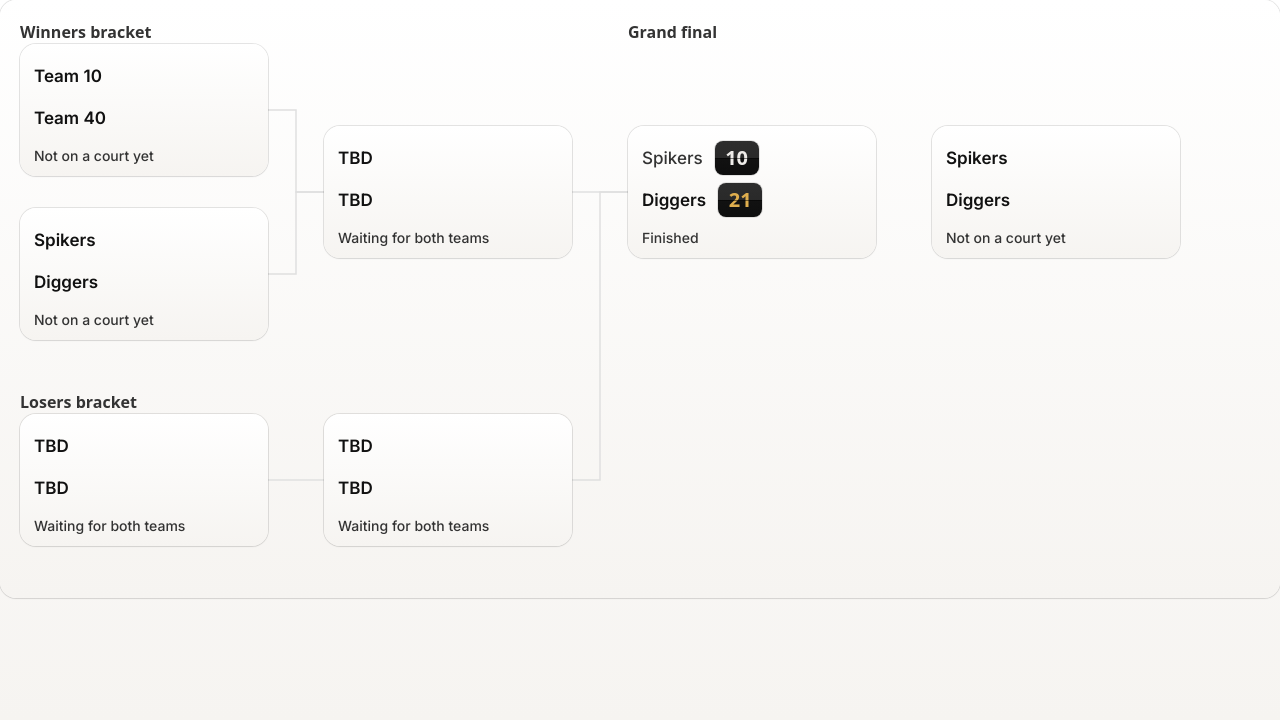
a correction that removes the reset match takes it off the bracket right away
Click the button with aria-label "Grand final: Spikers vs Diggers" at (752, 179), box [632,130,872,228]
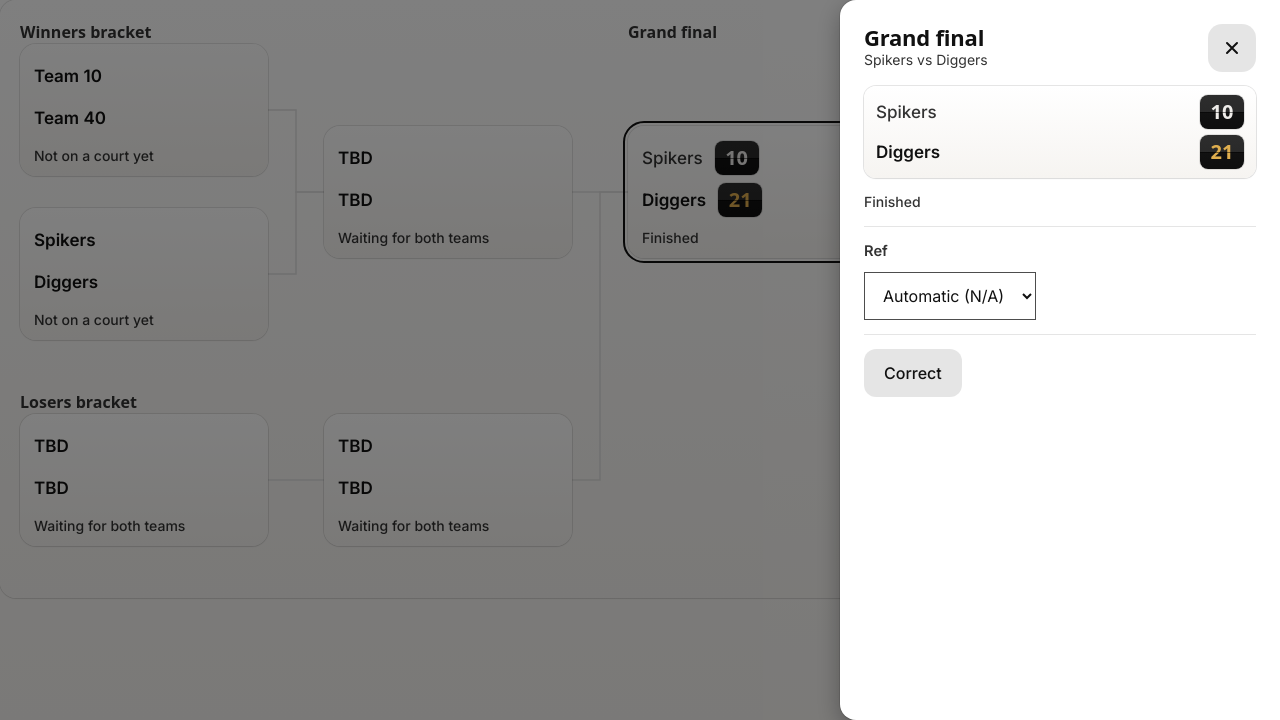
Click the button with aria-label "Correct Spikers vs Diggers" at (913, 373), box [864,349,962,397]
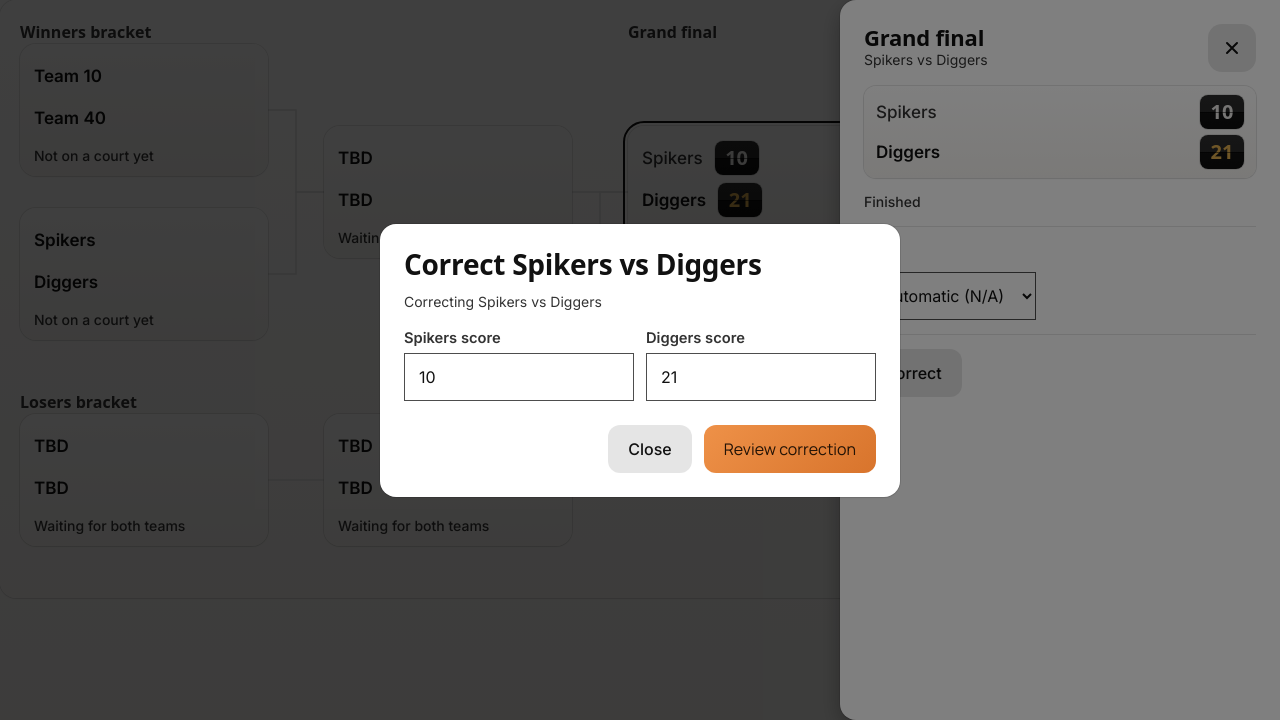
Replace the text in the number field labelled "Spikers score" with "21" at (519, 376), box [404,352,634,400]
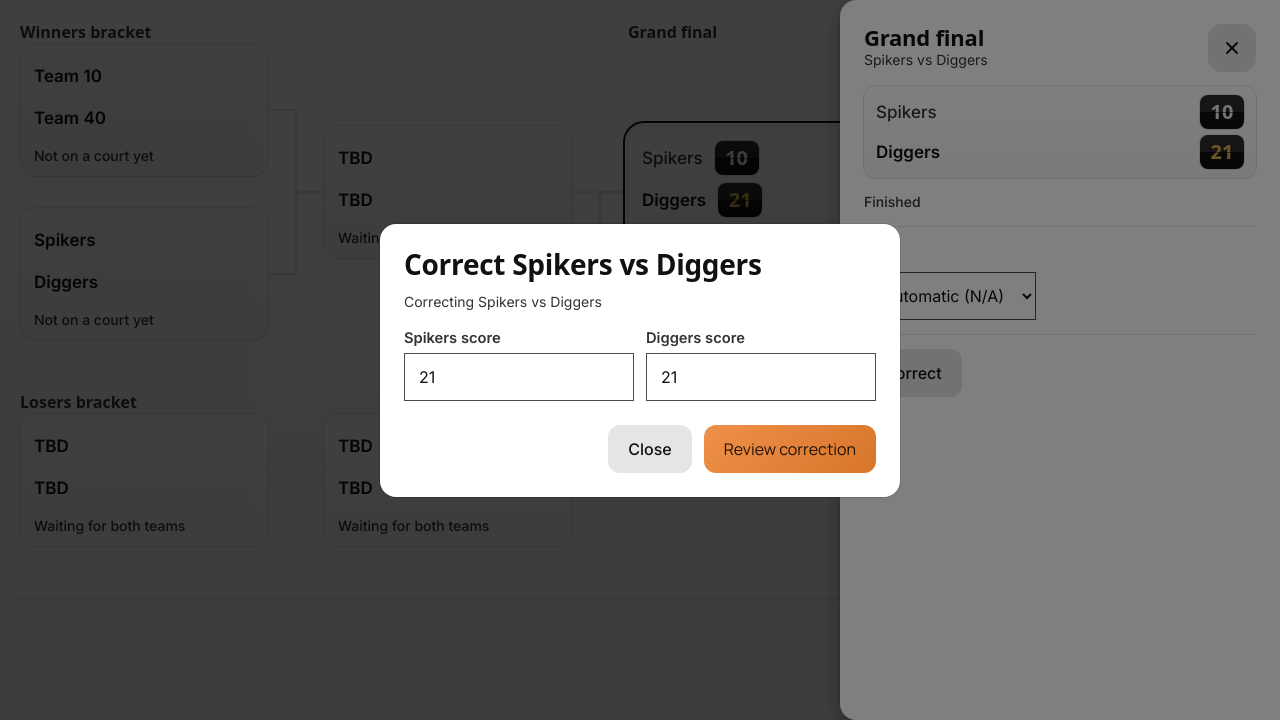
Replace the text in the number field labelled "Diggers score" with "10" at (761, 376), box [646,352,876,400]
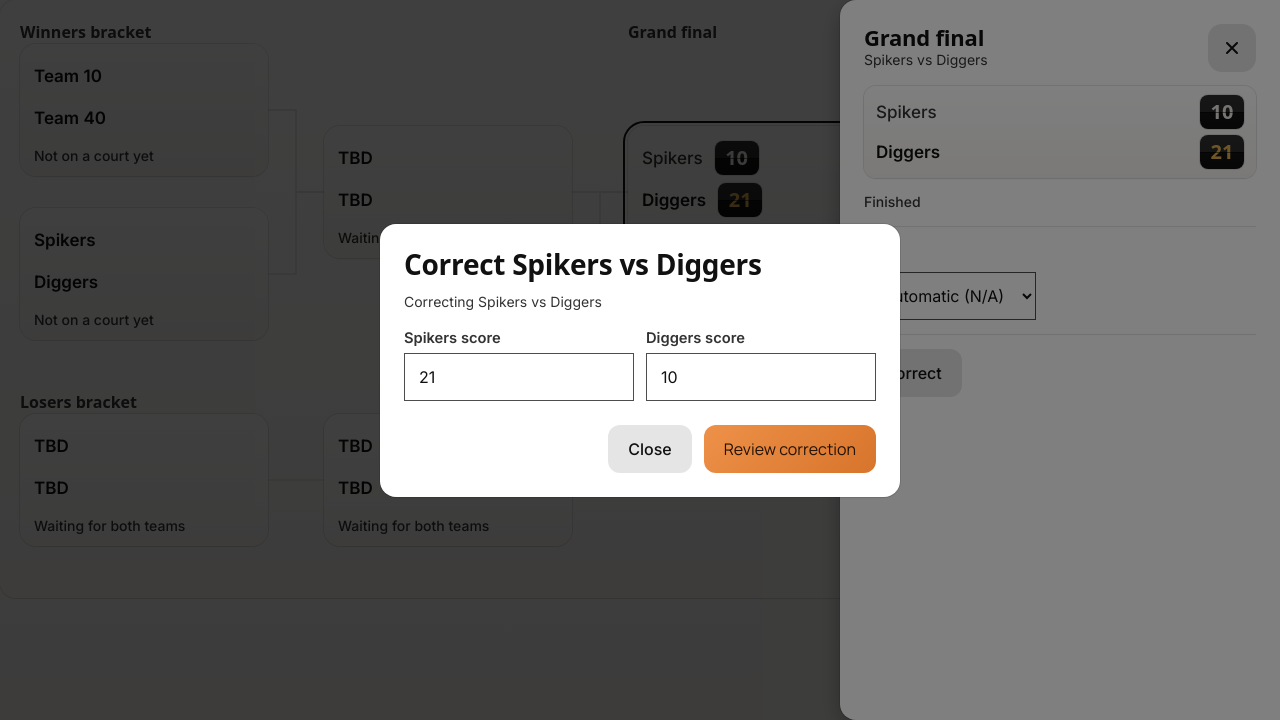
Click the button "Review correction" at (790, 448), box [704,424,876,472]
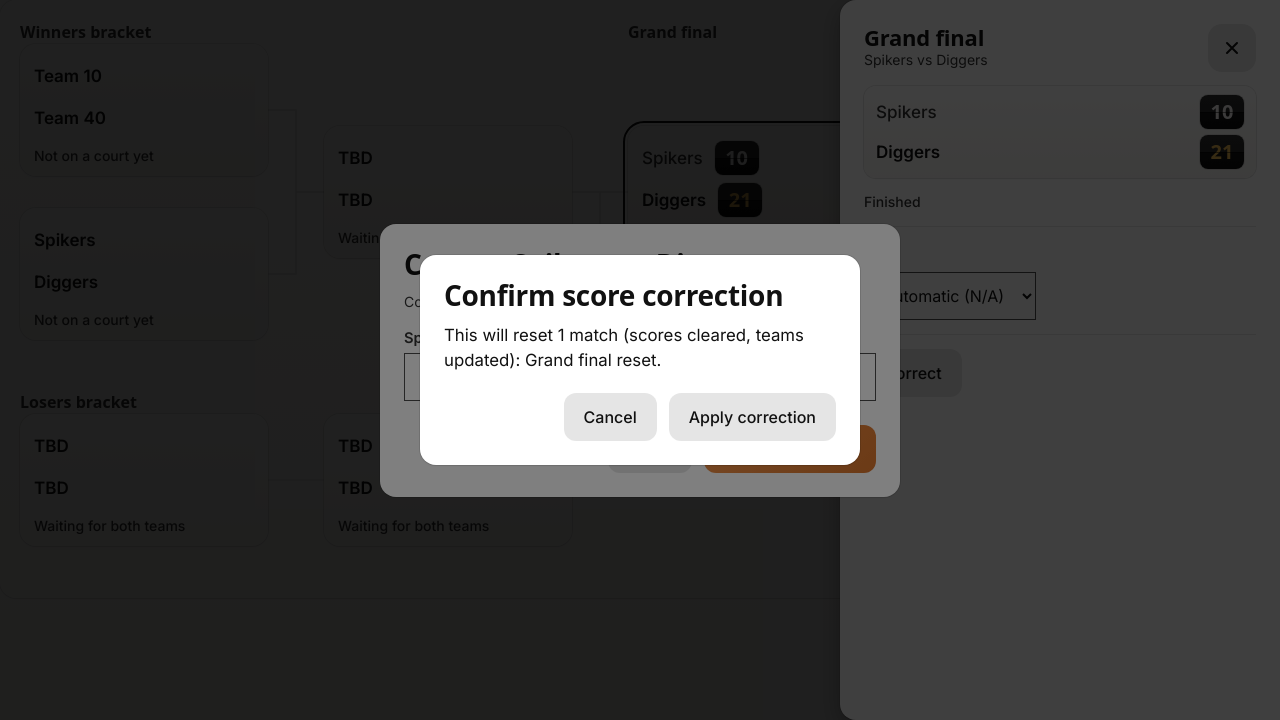
Click the button "Apply correction" at (752, 417), box [669,393,836,441]
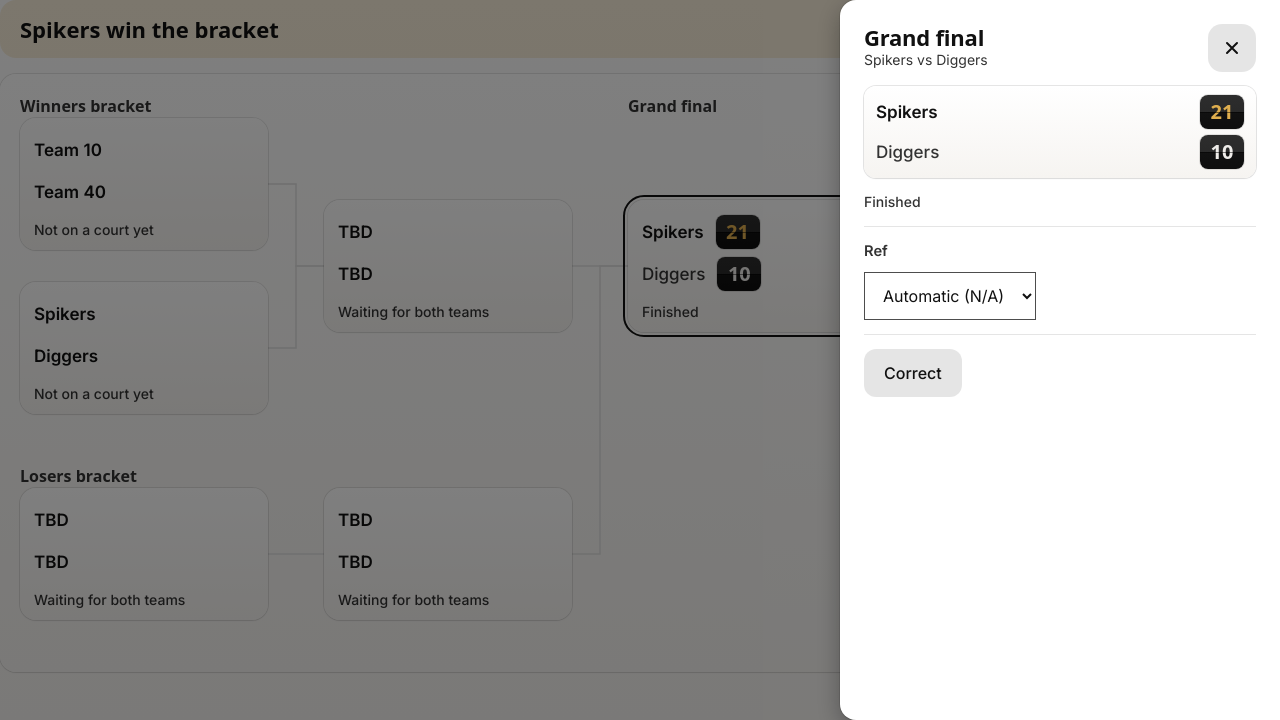
Check: the element named "Champion" shows "Spikers", box [20,14,100,44]
Check: the text "Grand final reset" is gone
